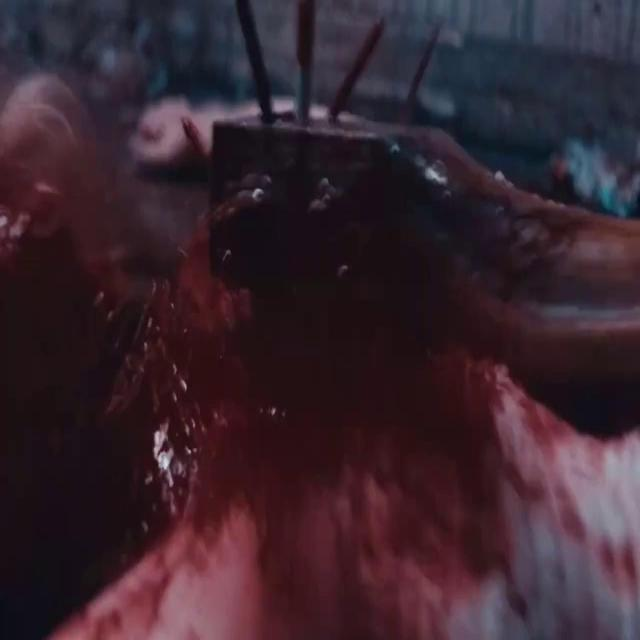flood: (23, 66, 584, 594)
